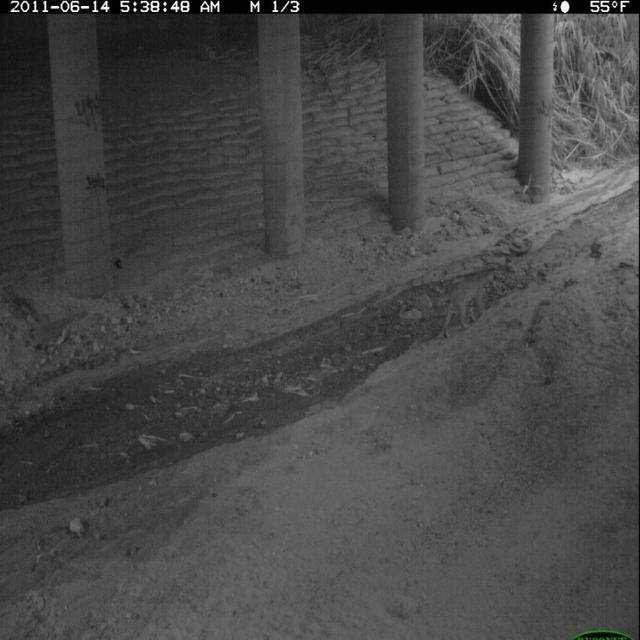bobcat: (439, 265, 500, 345)
